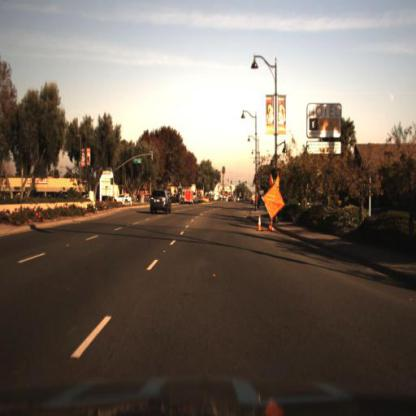car: (146, 186, 172, 216), (179, 189, 196, 205), (115, 194, 133, 206)
